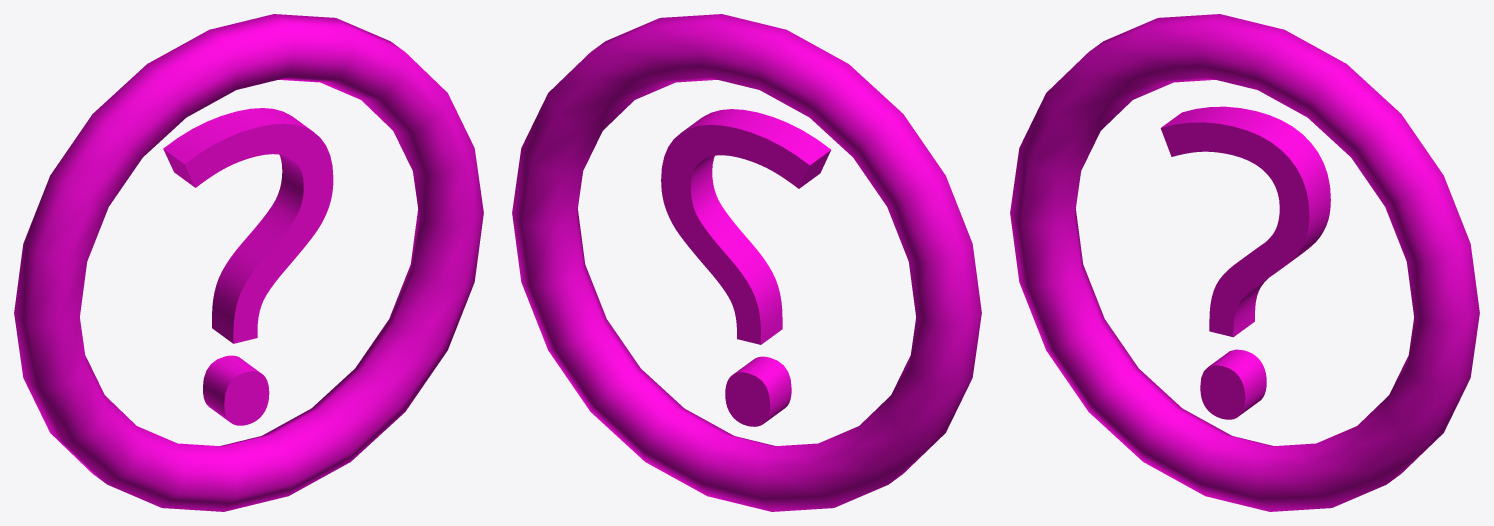
The model's file is error.glb.
3 views of the same model, side by side, from view 1: azimuth 30°, elevation 25°; view 2: azimuth 150°, elevation 25°; view 3: azimuth 330°, elevation 25° (orthographic).
Visible parts, largest first — view 1: Merged Objects; view 2: Merged Objects; view 3: Merged Objects.
Boxes of the visible parts, bbox=[...] form: Merged Objects: bbox=[14, 14, 483, 511]; Merged Objects: bbox=[512, 14, 981, 511]; Merged Objects: bbox=[1010, 14, 1479, 511].
Size of the model in its own units: 0.0268 by 0.0265 by 0.00339.
